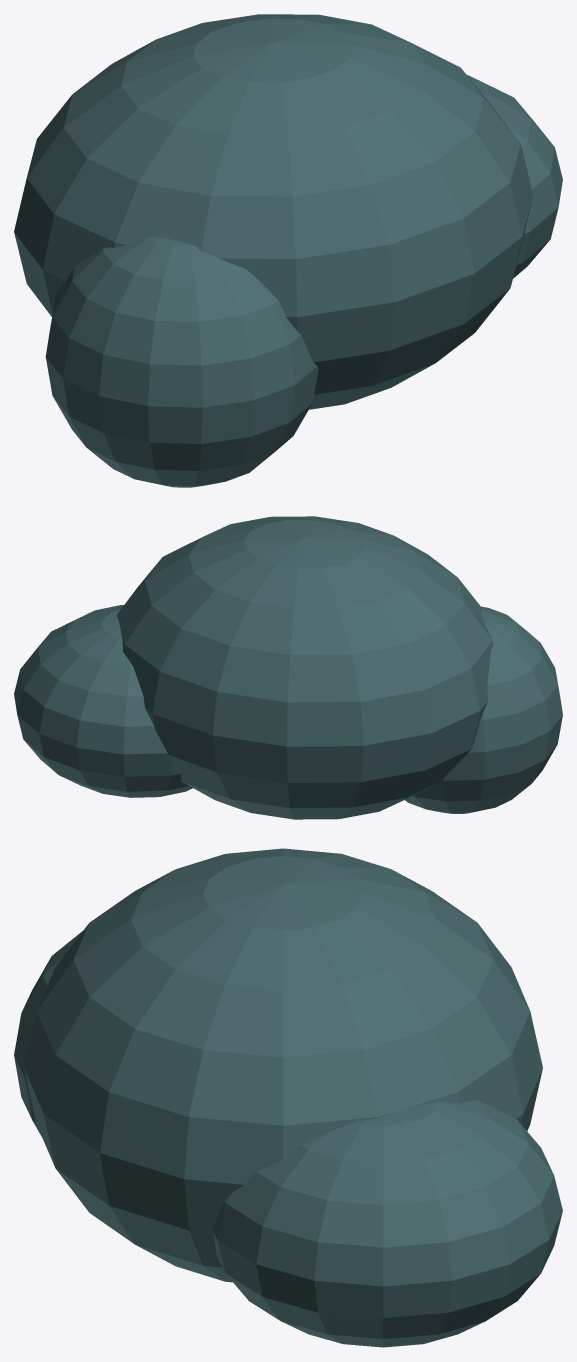
Rendered from env_bush_01.glb.
The picture shows the model from 3 angles, top to bottom: view 1: azimuth 30°, elevation 25°; view 2: azimuth 150°, elevation 25°; view 3: azimuth 270°, elevation 25°; orthographic projection. The views are drawn at different scales.
Parts seen in each view (by area): view 1: env_bush_01; view 2: env_bush_01; view 3: env_bush_01.
Boxes of the visible parts, x1=… form: env_bush_01: x1=14, y1=14, x2=562, y2=487; env_bush_01: x1=14, y1=516, x2=562, y2=819; env_bush_01: x1=14, y1=848, x2=562, y2=1347.
Bounding box in the file's own units: 1.44 × 0.8456 × 1.1.
